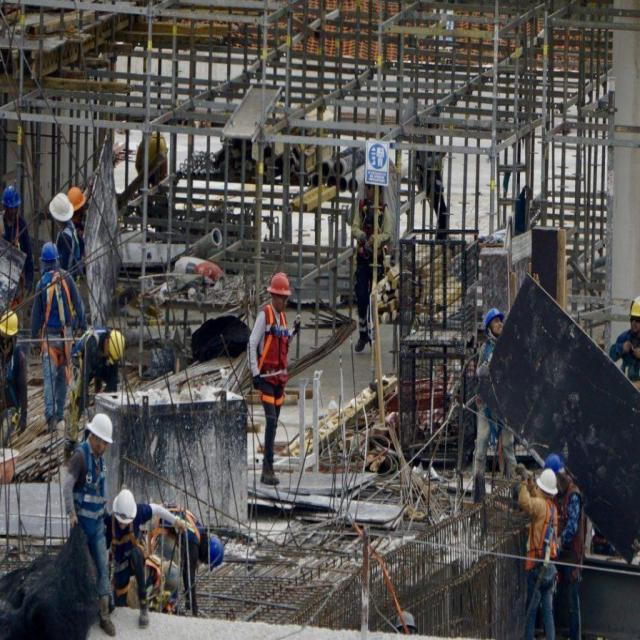Reflective-Jacket: (258, 304, 291, 402), (74, 446, 108, 519), (524, 499, 557, 574), (350, 199, 389, 262), (41, 272, 71, 345), (478, 339, 494, 380)
Safety-Helmet: (113, 486, 138, 525), (88, 411, 114, 443), (49, 192, 72, 222), (267, 269, 292, 296), (538, 467, 558, 494), (208, 533, 224, 565), (1, 309, 18, 337), (2, 185, 21, 208), (70, 185, 86, 211), (40, 241, 58, 261), (485, 307, 503, 326), (629, 294, 640, 317), (162, 514, 175, 530), (546, 454, 560, 468)
